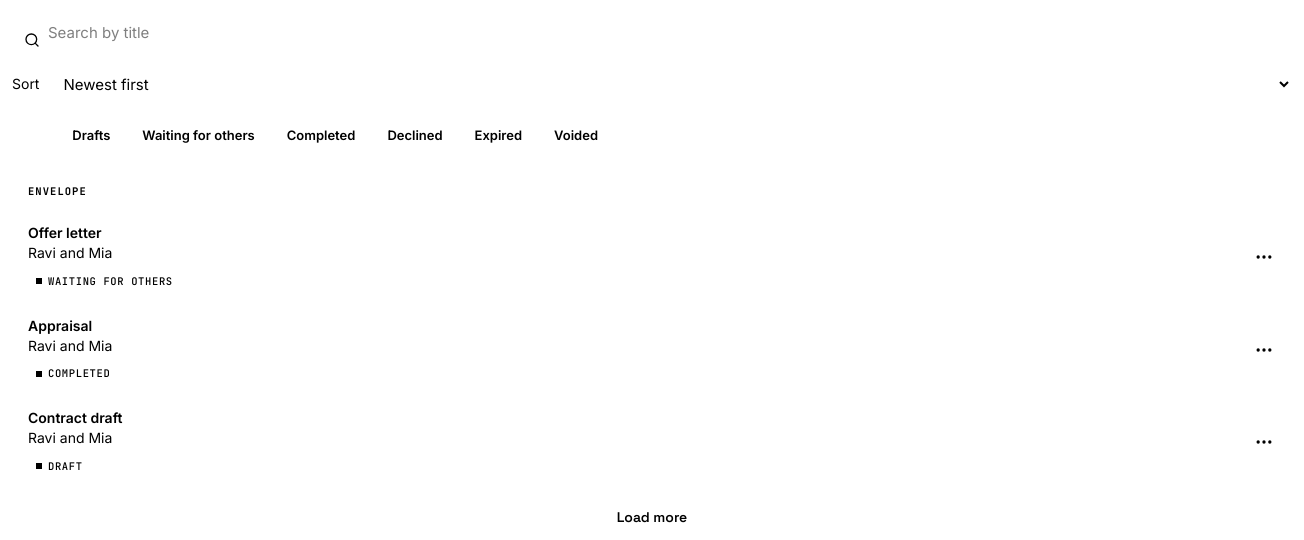
Scenario: EnvelopesTable › gives viewers a read-only list
Click the button named "Actions for Offer letter". click: (1264, 257)
box: [1248,241,1280,273]
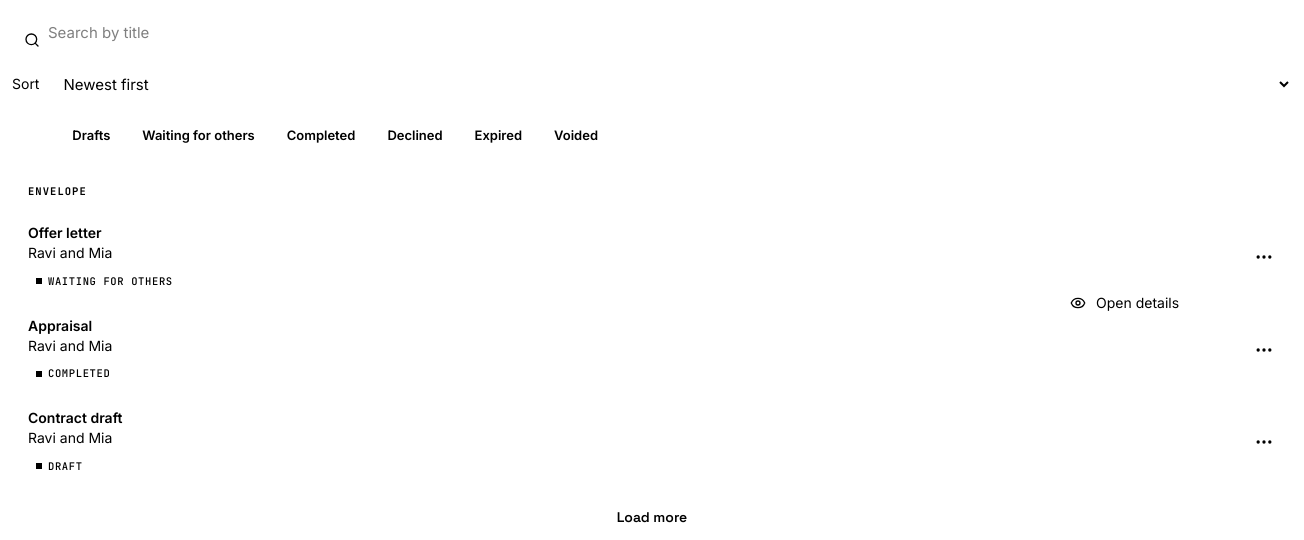
Expected: the menu item "Open details" is shown, [1070,294,1179,311]
